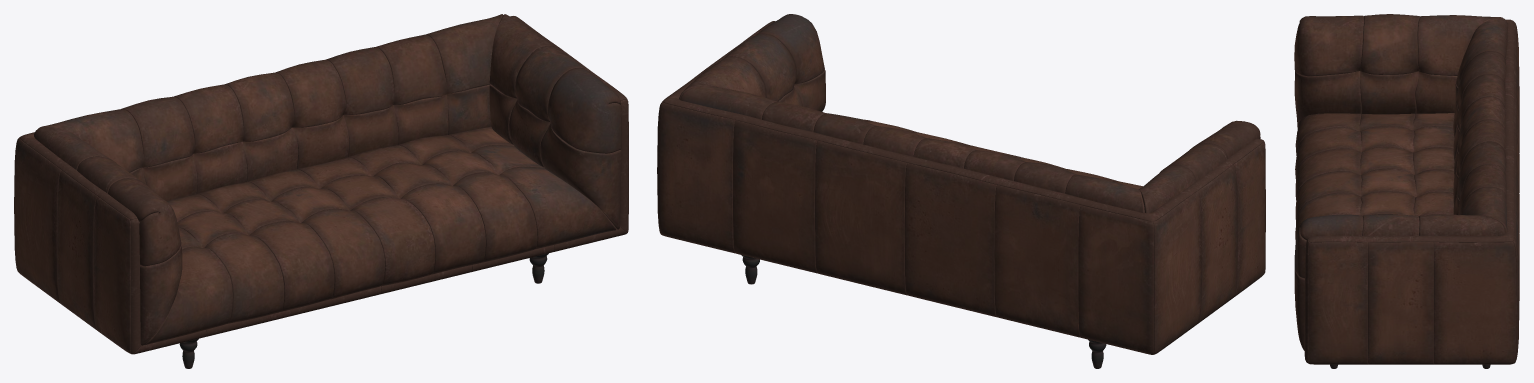
Rendered from Sketchfab_Scene.glb.
3 views of the same model, side by side, from view 1: azimuth 30°, elevation 25°; view 2: azimuth 150°, elevation 25°; view 3: azimuth 270°, elevation 25° (orthographic). The views are drawn at different scales.
Visible parts, largest first — view 1: Sofa; view 2: Sofa; view 3: Sofa.
Part boxes in pixels (left/top/right/bottom): Sofa: left=14, top=14, right=628, bottom=368; Sofa: left=657, top=14, right=1265, bottom=368; Sofa: left=1294, top=14, right=1519, bottom=368.
Bounding box in the file's own units: 10.97 × 3.94 × 4.61.
Materials: 2 (2 with a texture image).
